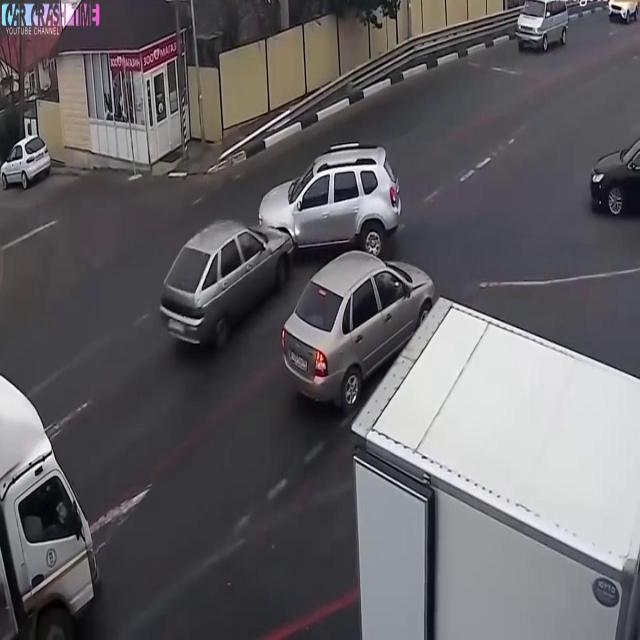accident: (149, 128, 413, 366)
